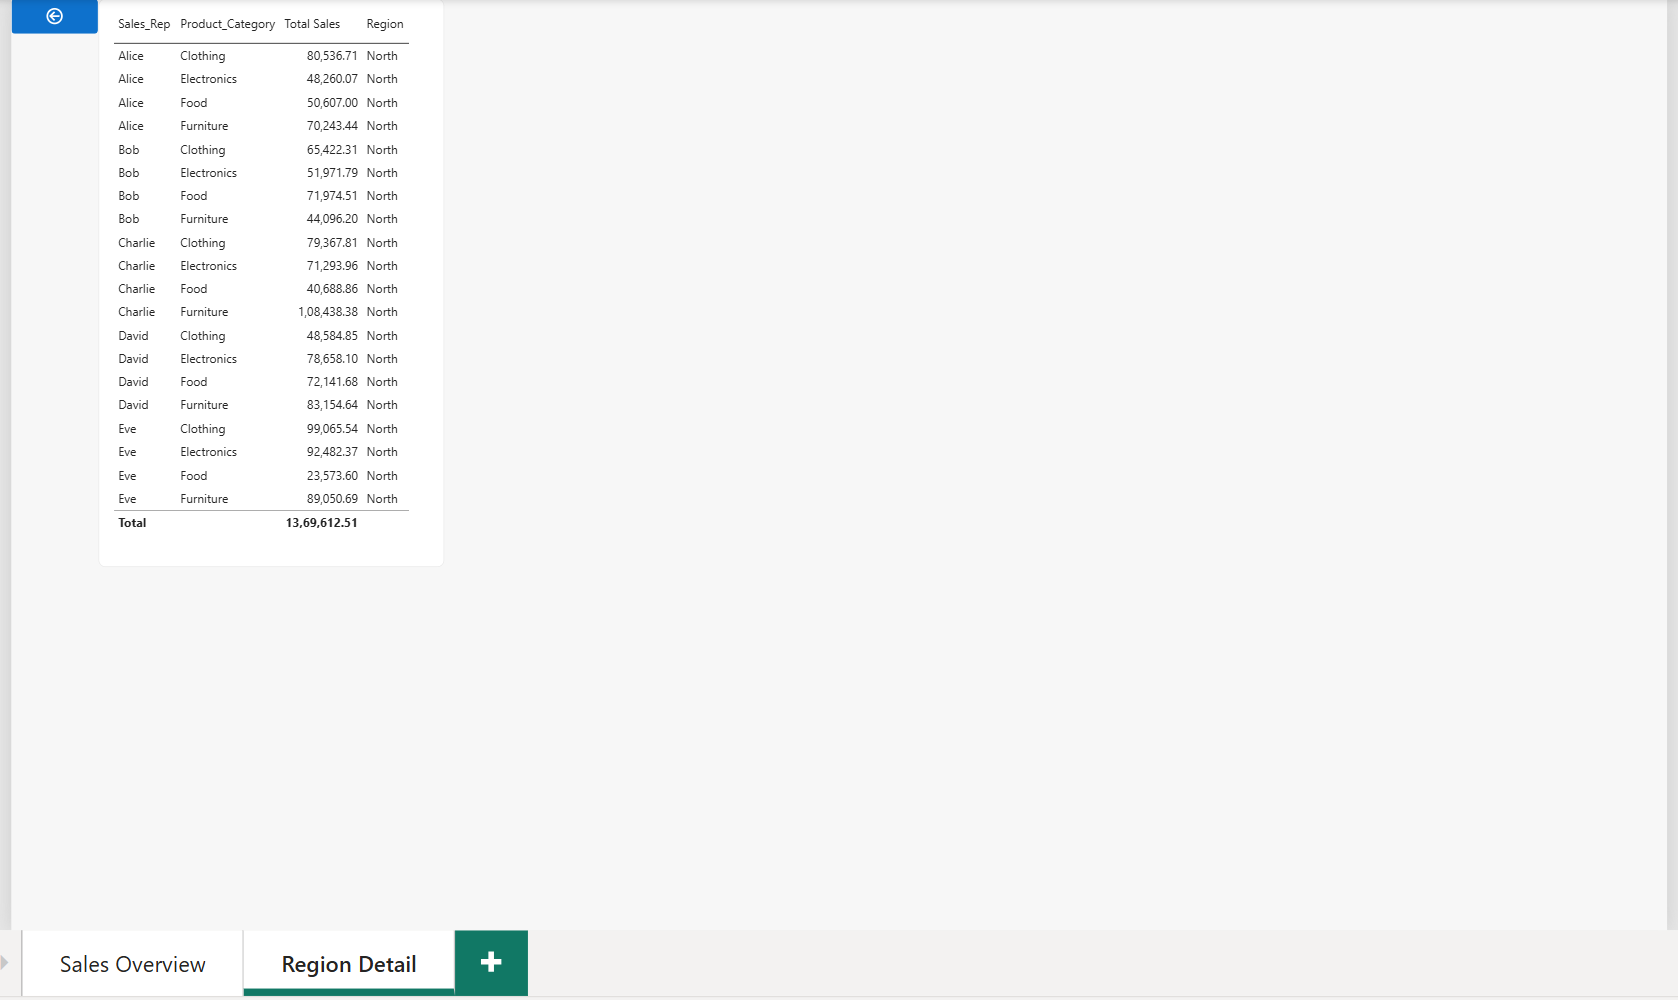

Layout of this report page (visuals, bound fields, positions):
{"tool":"powerbi","page":{"name":"Region Detail","canvas":[1920,1080],"ordinal":1},"visuals":[{"type":"tableEx","fields":{"Values":["sales_data.Sales_Rep","sales_data.Product_Category","sales_data.Total Sales","sales_data.Region"]},"box":[100.2,0,400.8,658.5],"z":0},{"type":"actionButton","box":[0,0,100,40],"z":1},{"type":"actionButton","box":[0,0,100.2,40.6],"z":2}]}

Visuals, with their boxes on the page's 1920x1080 design canvas (x1, y1, x2, y2). These are canvas units, not pixel positions in the 1678x1000 screenshot, which may show the page scaled, cropped or inside an application window:
tableEx - sales_data.Sales_Rep x sales_data.Product_Category: detection(100, 0, 501, 658)
actionButton: detection(0, 0, 100, 40)
actionButton: detection(0, 0, 100, 41)
